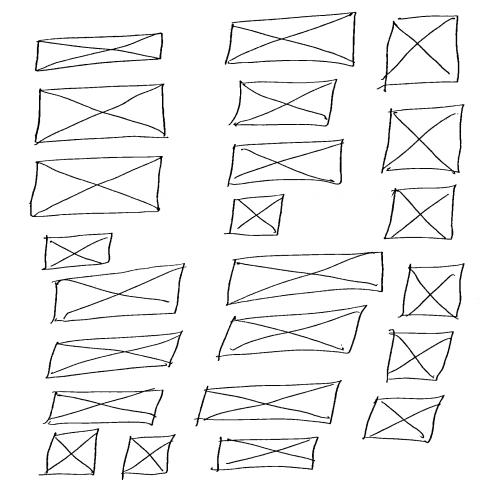Image: (224, 251, 385, 306), (27, 155, 164, 218), (214, 303, 368, 359), (33, 83, 166, 145), (51, 268, 188, 323), (222, 11, 358, 66), (44, 330, 183, 379), (194, 380, 341, 426), (378, 104, 466, 175), (380, 13, 460, 91), (226, 139, 344, 186), (227, 78, 338, 127), (34, 31, 163, 71), (42, 388, 165, 426), (361, 394, 445, 444), (382, 184, 456, 240), (397, 262, 466, 319), (384, 329, 454, 383), (211, 437, 317, 472), (40, 427, 99, 476), (40, 231, 112, 271), (224, 194, 285, 236), (120, 434, 175, 476)
